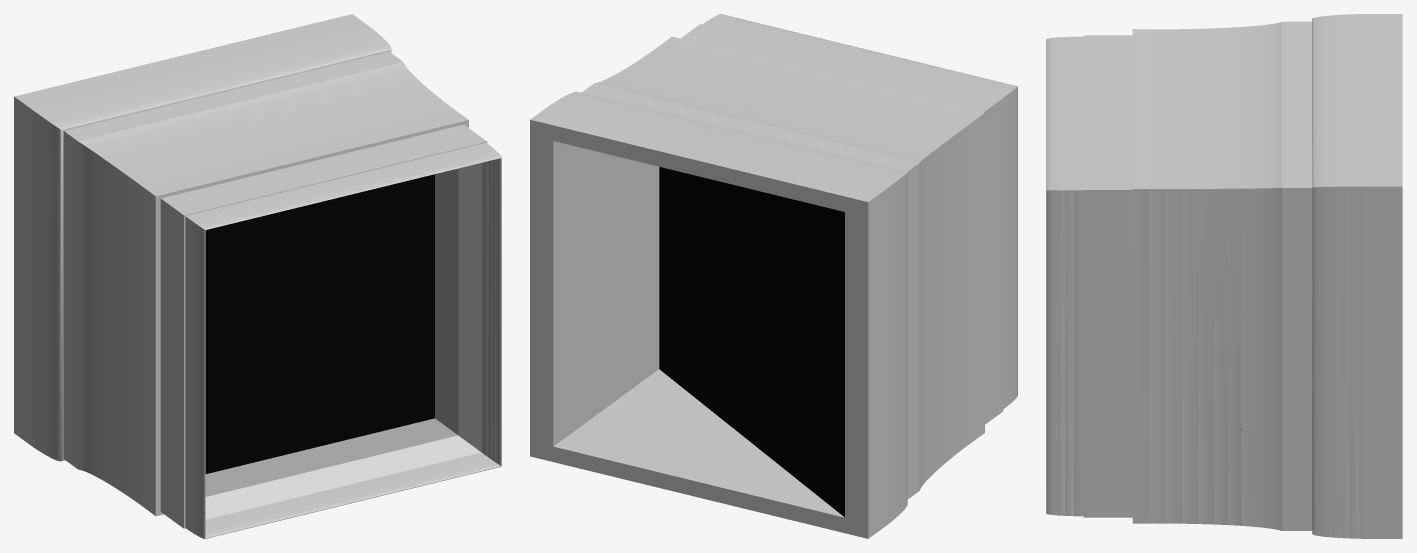
File: Frame1_wooden.glb
3 renders of one model, left to right at view 1: azimuth 30°, elevation 25°; view 2: azimuth 150°, elevation 25°; view 3: azimuth 270°, elevation 25°, orthographic. The views are drawn at different scales.
Parts seen in each view (by area): view 1: Material3.003, Material2.001, A_PaintingMesh, Material3.001; view 2: Material3.003, Material3; view 3: Material3.003.
Part boxes in pixels (bbox=[...]): Material3.003: bbox=[14, 14, 501, 538]; Material2.001: bbox=[206, 169, 457, 496]; A_PaintingMesh: bbox=[205, 174, 434, 473]; Material3.001: bbox=[205, 163, 481, 519]; Material3.003: bbox=[530, 14, 1017, 538]; Material3: bbox=[659, 167, 844, 517]; Material3.003: bbox=[1046, 14, 1402, 538].
Size of the model in its own units: 1.14 by 1.09 by 0.9992.
6 materials, 1 textured.
